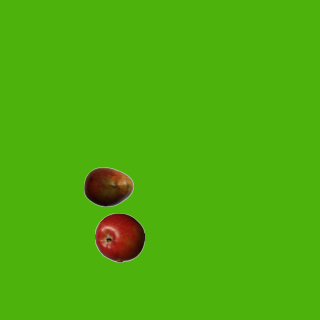Apple Braeburn: (94, 212, 144, 262)
Mango Red: (83, 161, 133, 211)
